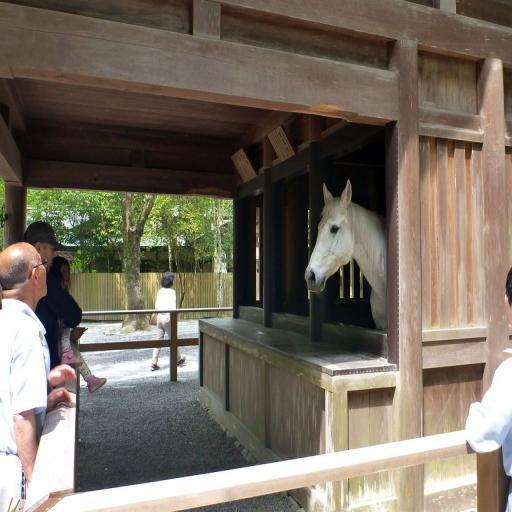horse: (305, 181, 395, 333)
